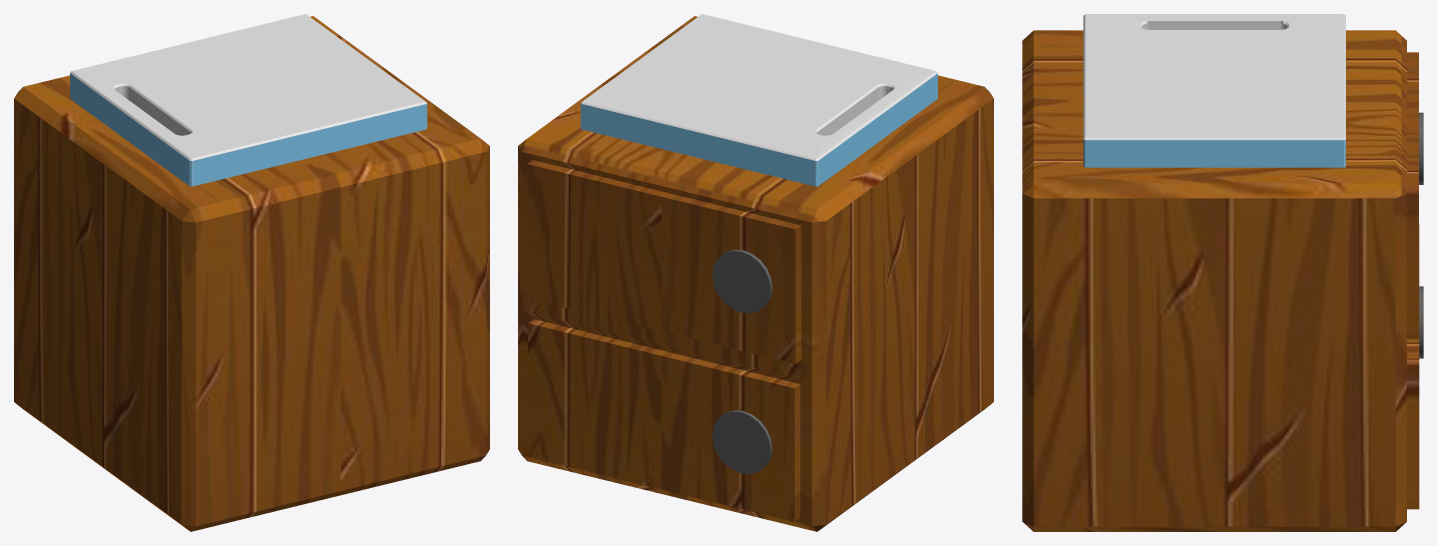
Rendered from cuttingboard.fbx.
3 renders of one model, left to right at view 1: azimuth 30°, elevation 25°; view 2: azimuth 150°, elevation 25°; view 3: azimuth 270°, elevation 25°, orthographic. The views are drawn at different scales.
Parts seen in each view (by area): view 1: pCube3, polySurface1; view 2: pCube3, polySurface1, handle, handle2; view 3: pCube3, polySurface1.
Part boxes in pixels (<box>): pCube3: <box>14,16,489,531</box>; polySurface1: <box>70,14,427,186</box>; pCube3: <box>518,16,993,531</box>; polySurface1: <box>580,14,937,186</box>; handle: <box>712,249,772,313</box>; handle2: <box>712,410,772,473</box>; pCube3: <box>1022,30,1419,531</box>; polySurface1: <box>1083,14,1345,167</box>.
Bounding box in the file's own units: 3.33 × 3.61 × 3.47.
4 materials, 1 textured.
